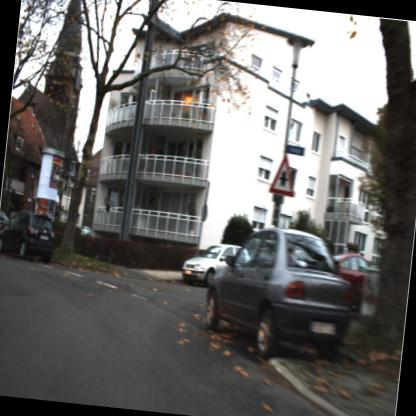danger: (260, 153, 302, 202)
